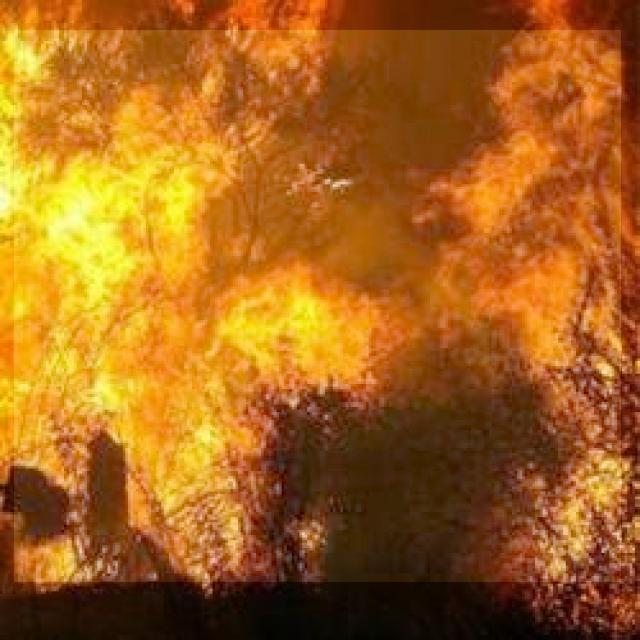Fire: (14, 30, 621, 582)
